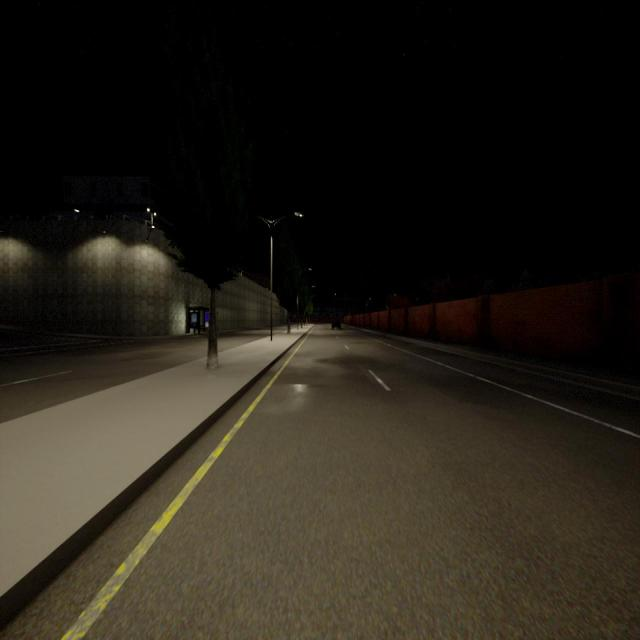Vehicle: (332, 319, 341, 329)
